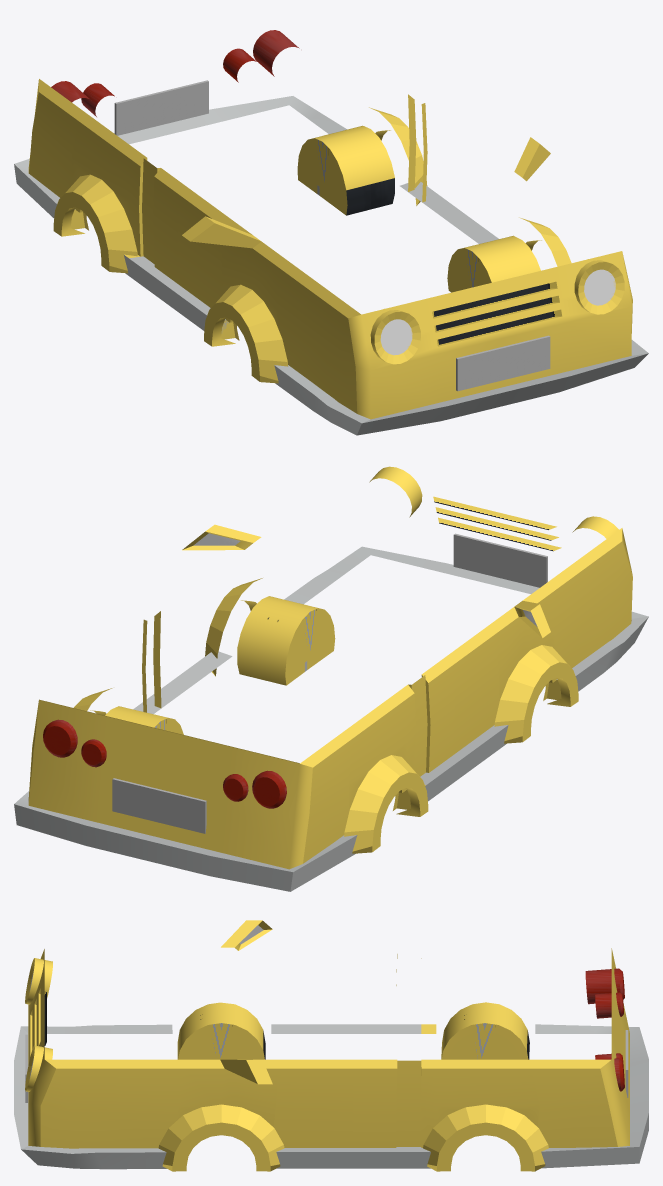
The model's file is VINTAGE-BOTTOM-Avx4Y3Lb.glb.
3 renders of one model, top to bottom at view 1: azimuth 30°, elevation 25°; view 2: azimuth 150°, elevation 25°; view 3: azimuth 270°, elevation 25°, orthographic. The views are drawn at different scales.
Size of the model in its own units: 2.08 by 0.7372 by 3.6.
Materials: 2 (1 with a texture image).
